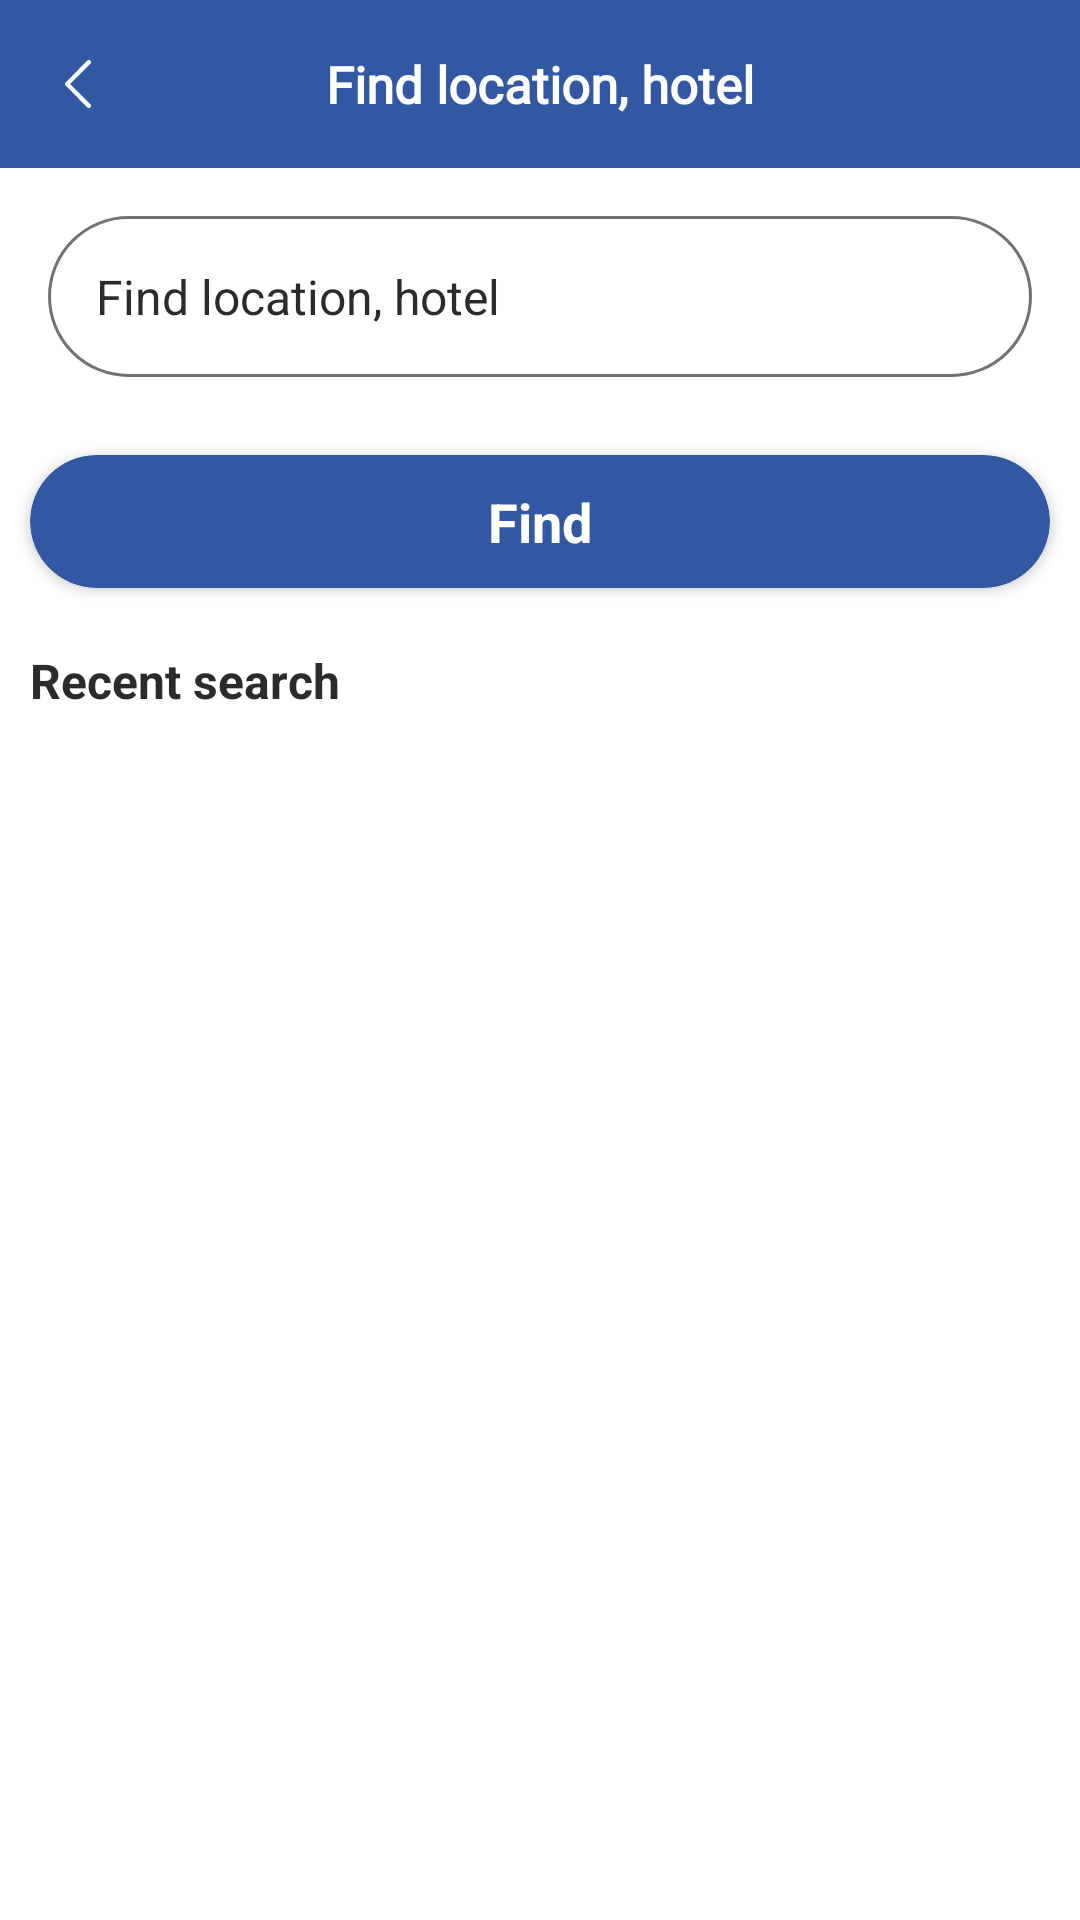

Screen size 1080x1920. Icon name, then its box in pixels as detection(x1, y1, x2, y2):
back: detection(65, 60, 91, 108)
